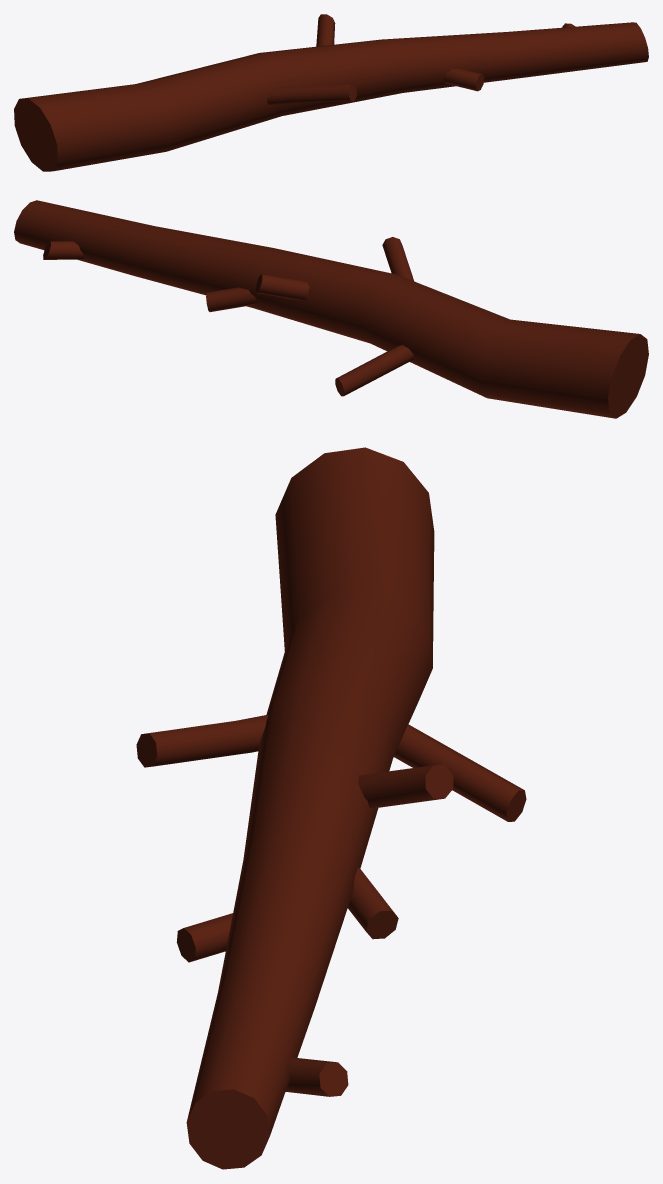
The picture shows the model from 3 angles, top to bottom: view 1: azimuth 30°, elevation 25°; view 2: azimuth 150°, elevation 25°; view 3: azimuth 270°, elevation 25°; orthographic projection. The views are drawn at different scales.
Parts seen in each view (by area): view 1: root_02; view 2: root_02; view 3: root_02.
Boxes of the visible parts, x1,y1,x2,y2 form: root_02: (14, 14, 648, 171); root_02: (14, 200, 648, 418); root_02: (136, 447, 526, 1169).
Size of the model in its own units: 191 by 25.38 by 55.51.
